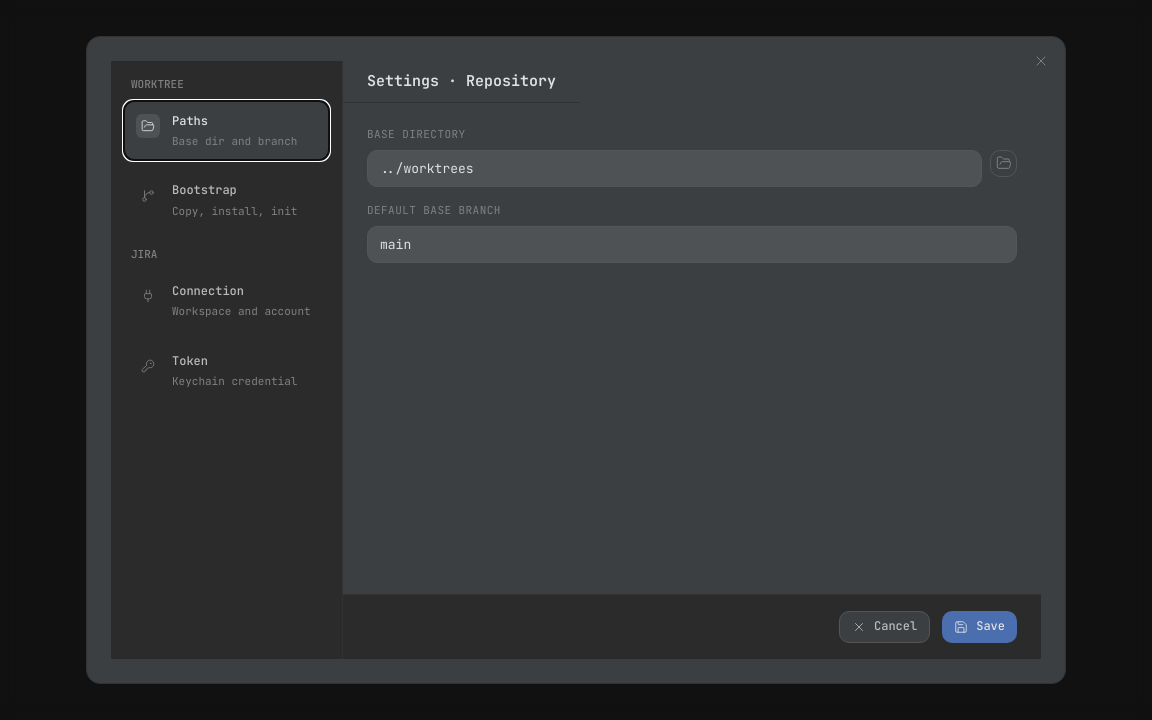
Test: Settings repository modal › shows a specific inline error when required #settings-worktree-default-base-branch is missing
Click the button "Paths Base dir and branch". click: (226, 131)
box: [123,100,330,162]
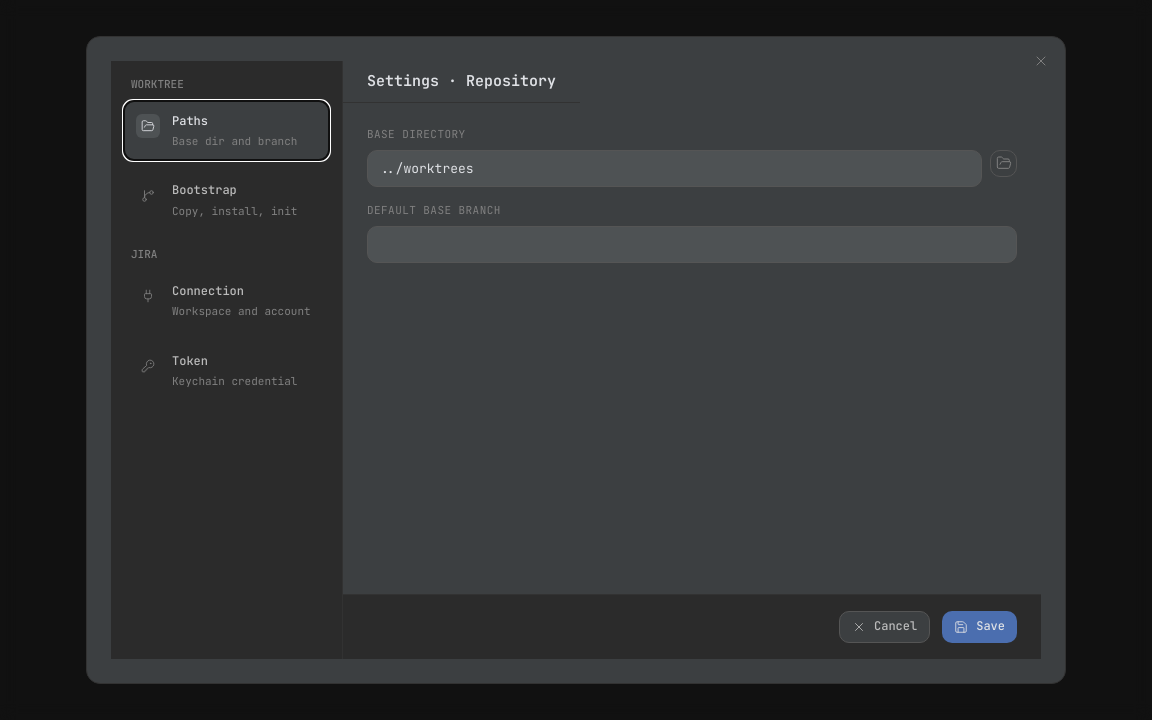
Click the button "Save". click: (980, 627)
box: [942,611,1017,643]
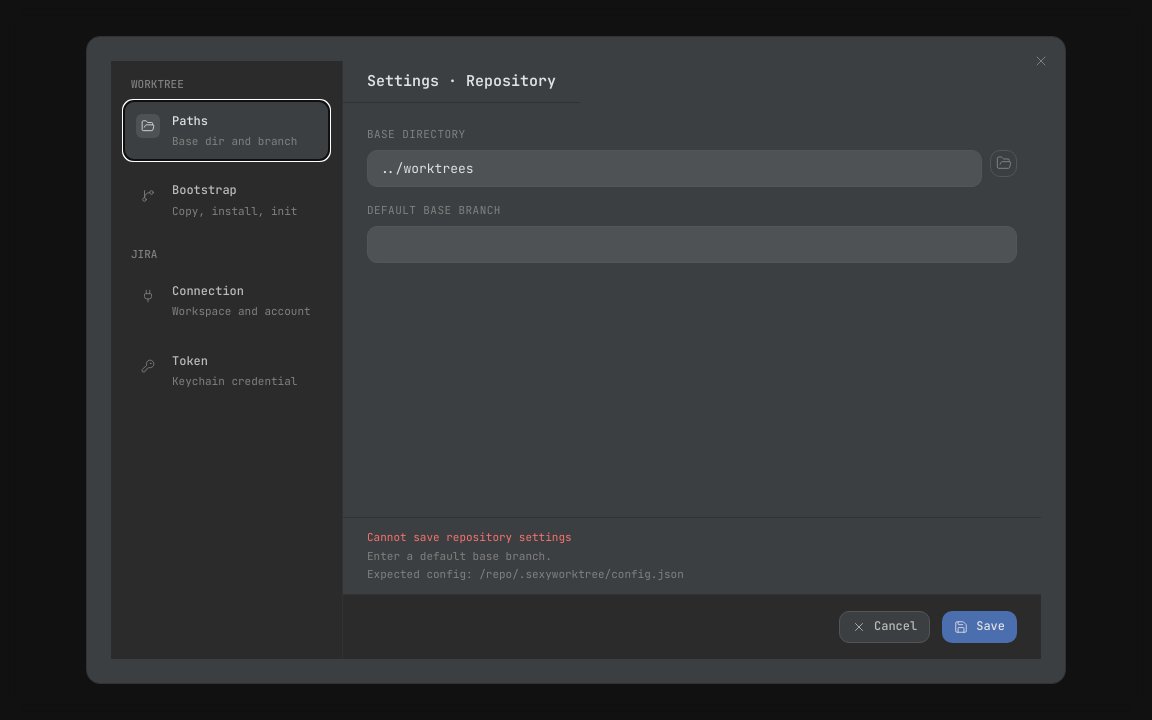
Now the message is shown, box [343,517,1041,594]
Now the message shows "Cannot save repository settings", box [367,530,572,544]
Now the message shows "Enter a default base branch.", box [367,549,552,563]
